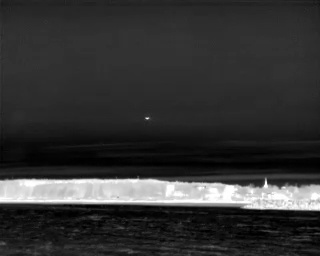BIRD: (143, 114, 152, 124)
